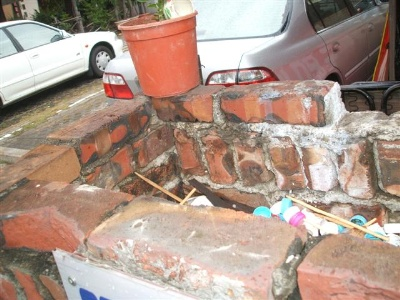bucket: (117, 10, 202, 99)
